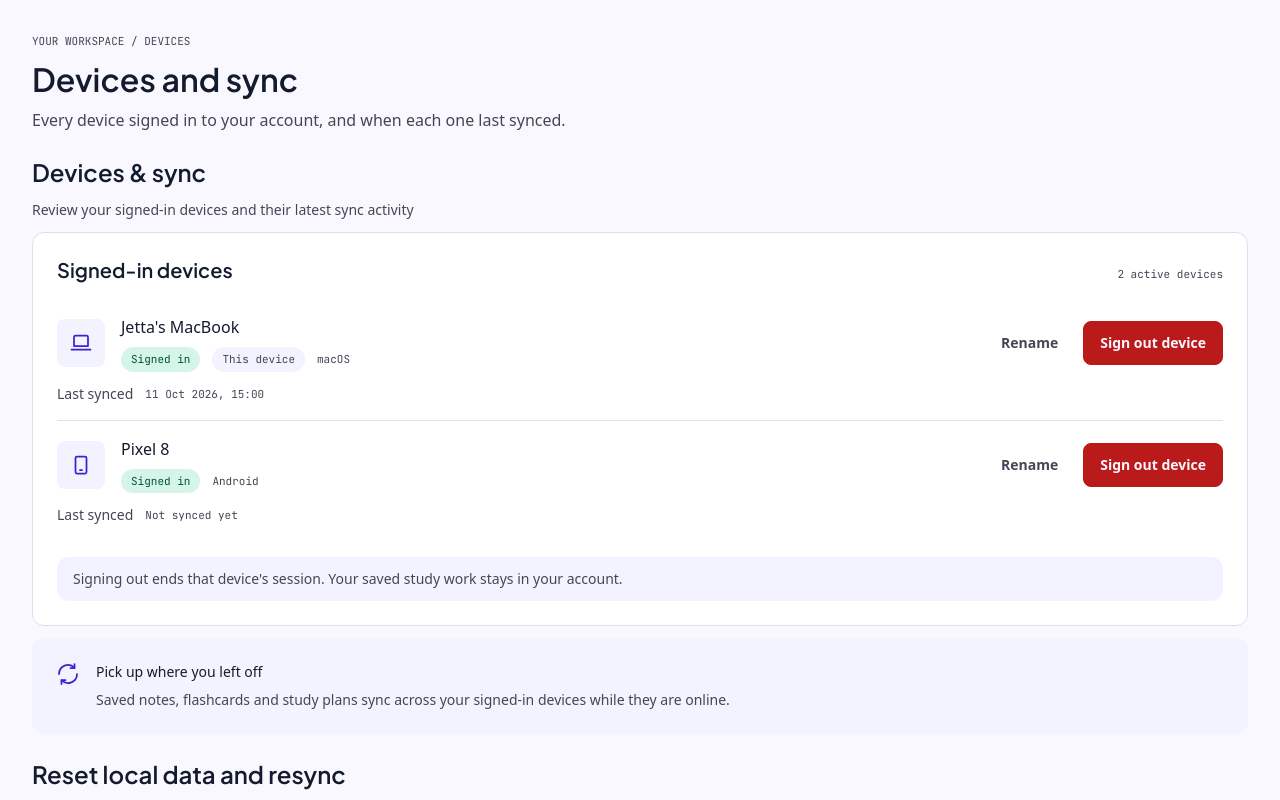
Test: the devices screen › revokes a device after confirmation and removes it from the list
Expected: the list item "Pixel 8" is shown, [121, 438, 169, 460]
Click the button "Sign out device" in the row of "Android". click: (1153, 465)
box: [1083, 443, 1223, 487]
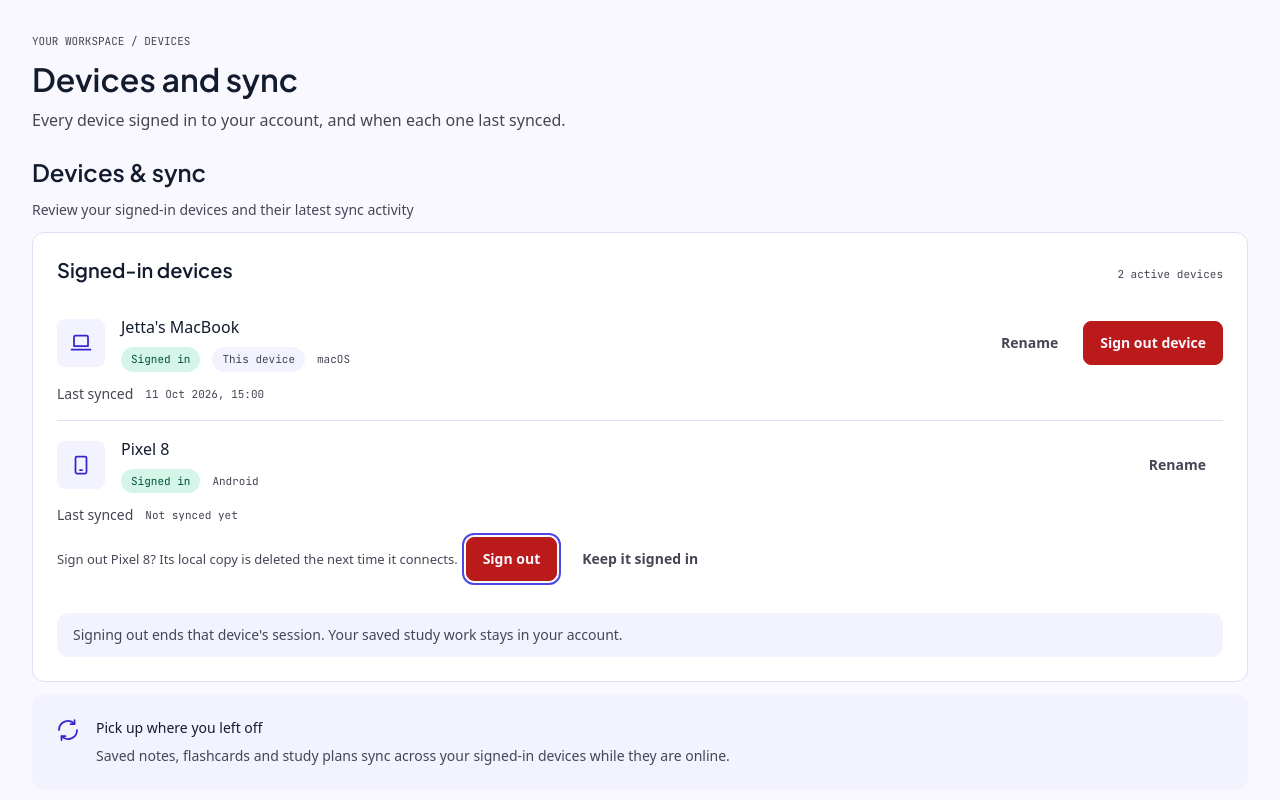
Expected: the text "Sign out Pixel 8? Its local copy is deleted the next time it connects." is shown, [57, 549, 458, 569]
Click the button "Sign out". click: (511, 559)
box: [466, 537, 557, 581]
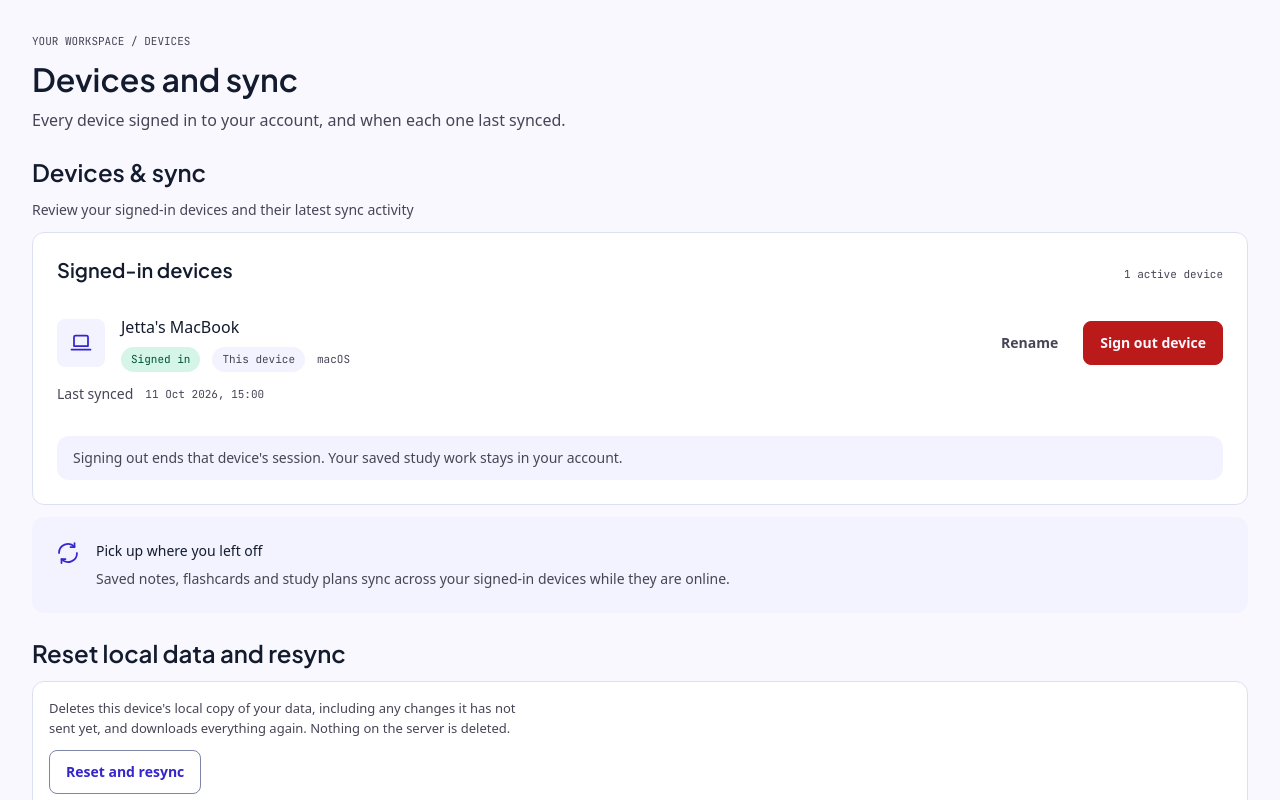
Expected: the text "Jetta's MacBook" is shown, [121, 316, 239, 338]
Expected: the text "Pixel 8" is gone
